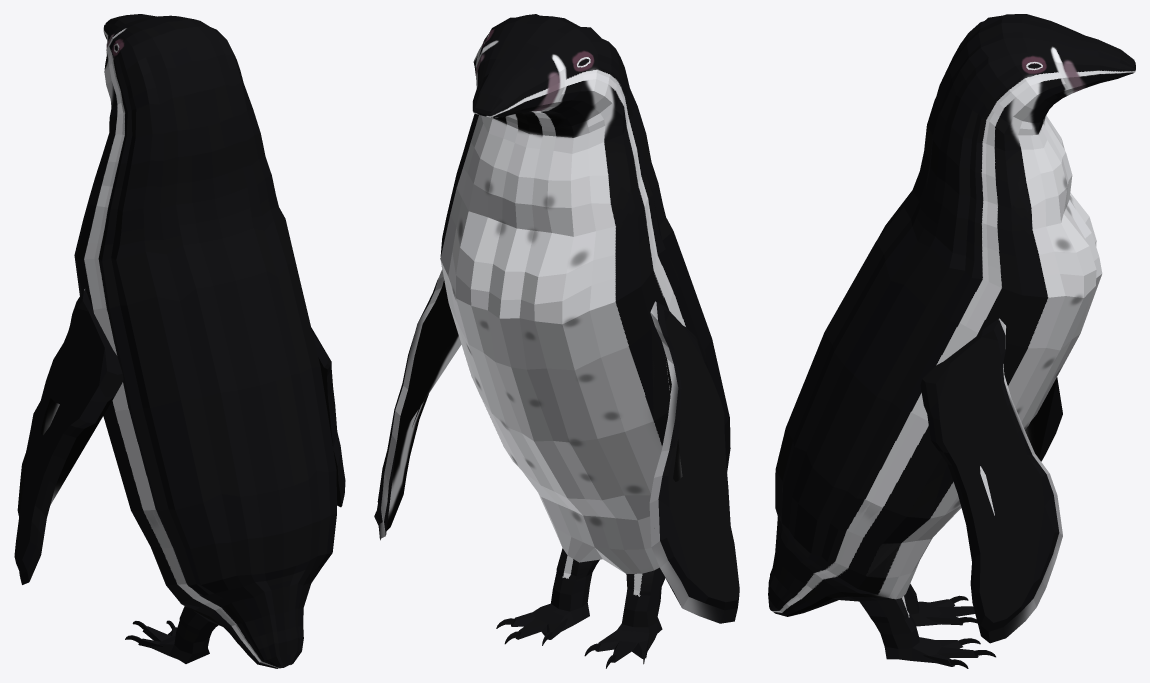
The model's file is PinguimHumbold.fbx.
The picture shows the model from 3 angles, left to right: view 1: azimuth 30°, elevation 25°; view 2: azimuth 150°, elevation 25°; view 3: azimuth 270°, elevation 25°; orthographic projection. The views are drawn at different scales.
Parts seen in each view (by area): view 1: Cylinder.001, Cylinder.002; view 2: Cylinder.001, Cylinder.002; view 3: Cylinder.001, Cylinder.002.
Part boxes in pixels (x1,y1,x2,y2): Cylinder.001: [74, 14, 336, 668]; Cylinder.002: [14, 289, 345, 584]; Cylinder.001: [440, 14, 730, 668]; Cylinder.002: [374, 269, 739, 623]; Cylinder.001: [768, 14, 1135, 668]; Cylinder.002: [920, 318, 1062, 643].
Size of the model in its own units: 134 by 229 by 125.
